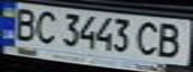3: (112, 16, 136, 54), (57, 10, 81, 48)
4: (78, 12, 100, 51), (93, 15, 115, 52)
B: (151, 20, 187, 60), (6, 6, 42, 42)
C: (133, 19, 163, 57), (30, 8, 60, 45)
